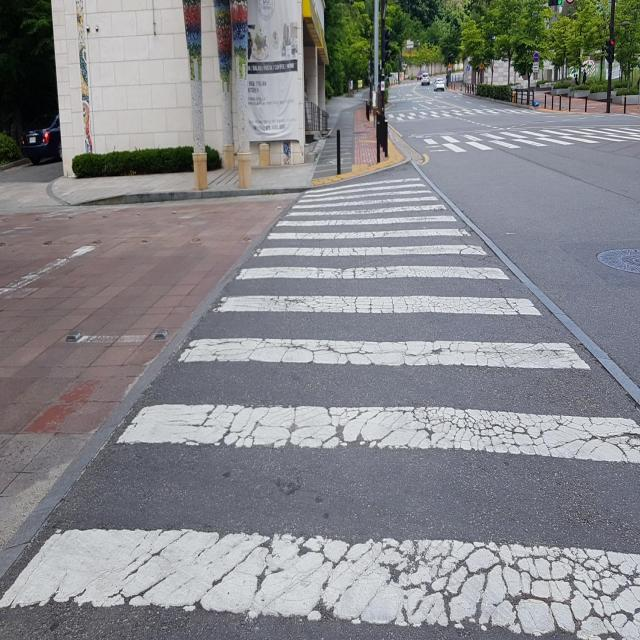횡단보도: (0, 176, 640, 639), (414, 124, 640, 154), (388, 108, 547, 120)
